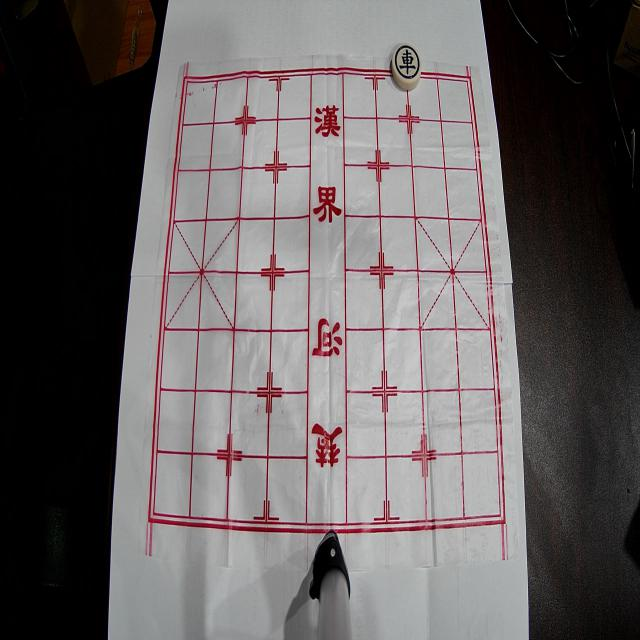black-chariot: (392, 43, 422, 90)
